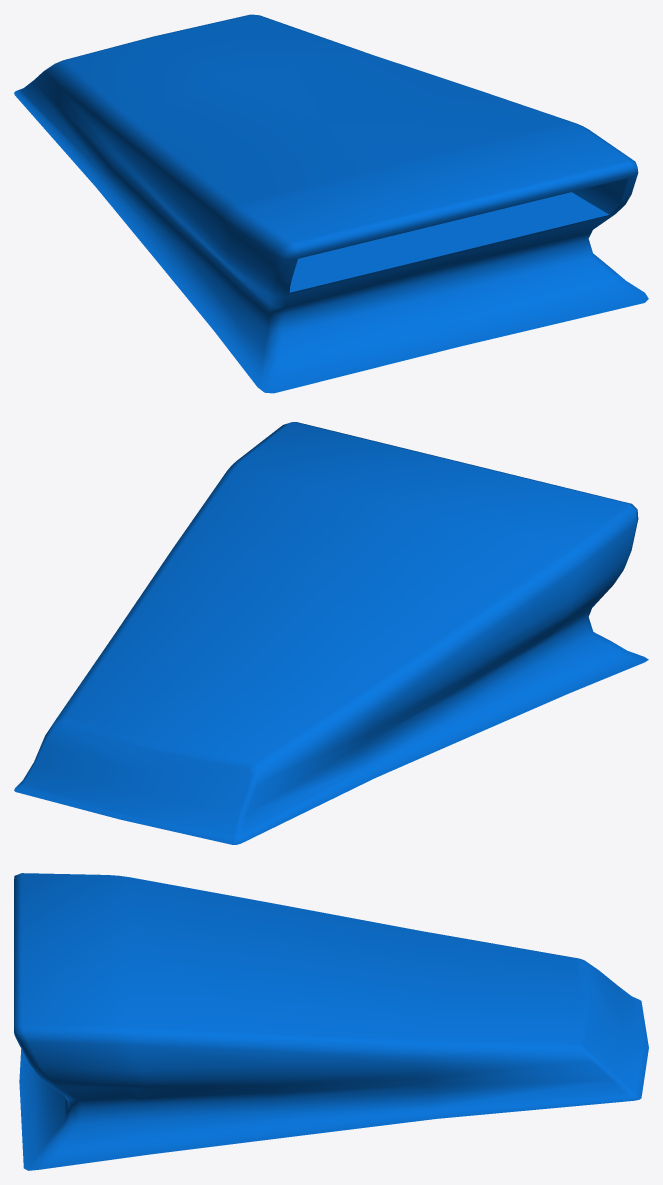
File: R34_RoofScoop_03_Duco.fbx
The picture shows the model from 3 angles, top to bottom: view 1: azimuth 30°, elevation 25°; view 2: azimuth 150°, elevation 25°; view 3: azimuth 270°, elevation 25°; orthographic projection. The views are drawn at different scales.
Visible parts, largest first — view 1: R34_RoofScoop_03_Duco; view 2: R34_RoofScoop_03_Duco; view 3: R34_RoofScoop_03_Duco.
Boxes of the visible parts, left/top/right/bottom form: R34_RoofScoop_03_Duco: left=14, top=14, right=648, bottom=393; R34_RoofScoop_03_Duco: left=14, top=422, right=648, bottom=844; R34_RoofScoop_03_Duco: left=14, top=873, right=648, bottom=1170.
Size of the model in its own units: 20.78 by 7.57 by 31.99.
